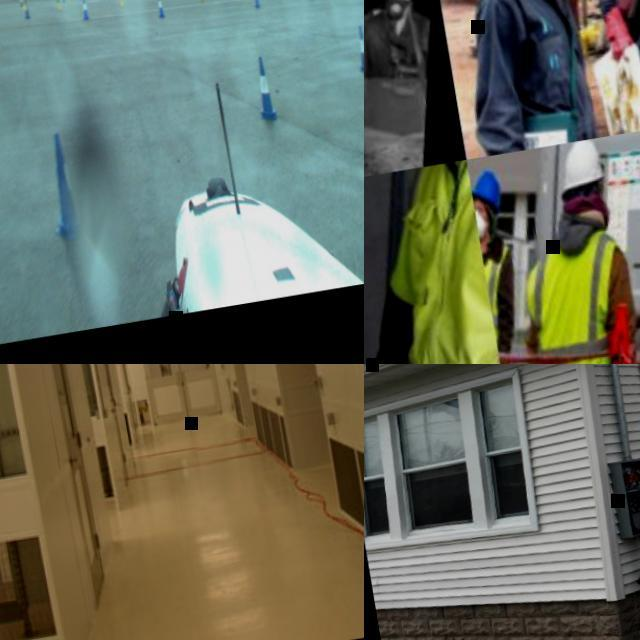helmet: (552, 134, 606, 198), (470, 170, 504, 214)
vest: (368, 158, 512, 364), (502, 226, 640, 364)
